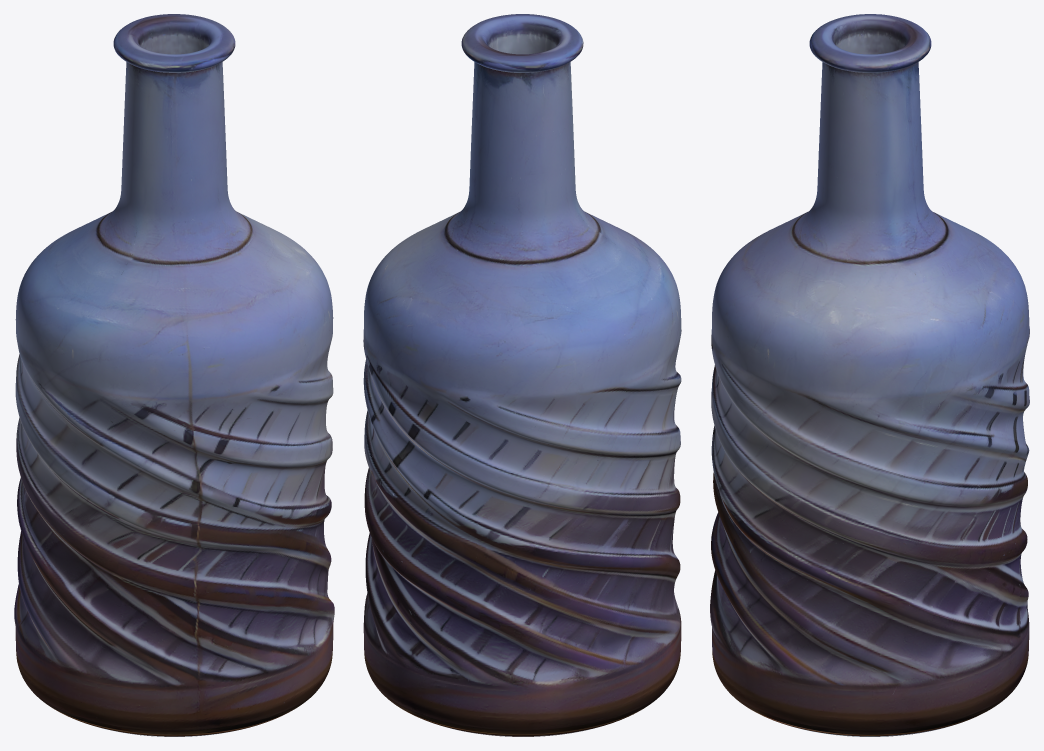
The model's file is grafin.glb.
The picture shows the model from 3 angles, left to right: view 1: azimuth 30°, elevation 25°; view 2: azimuth 150°, elevation 25°; view 3: azimuth 270°, elevation 25°; orthographic projection.
Bounding box in the file's own units: 0.8452 × 1.9 × 0.8456.
1 material, 1 textured.
